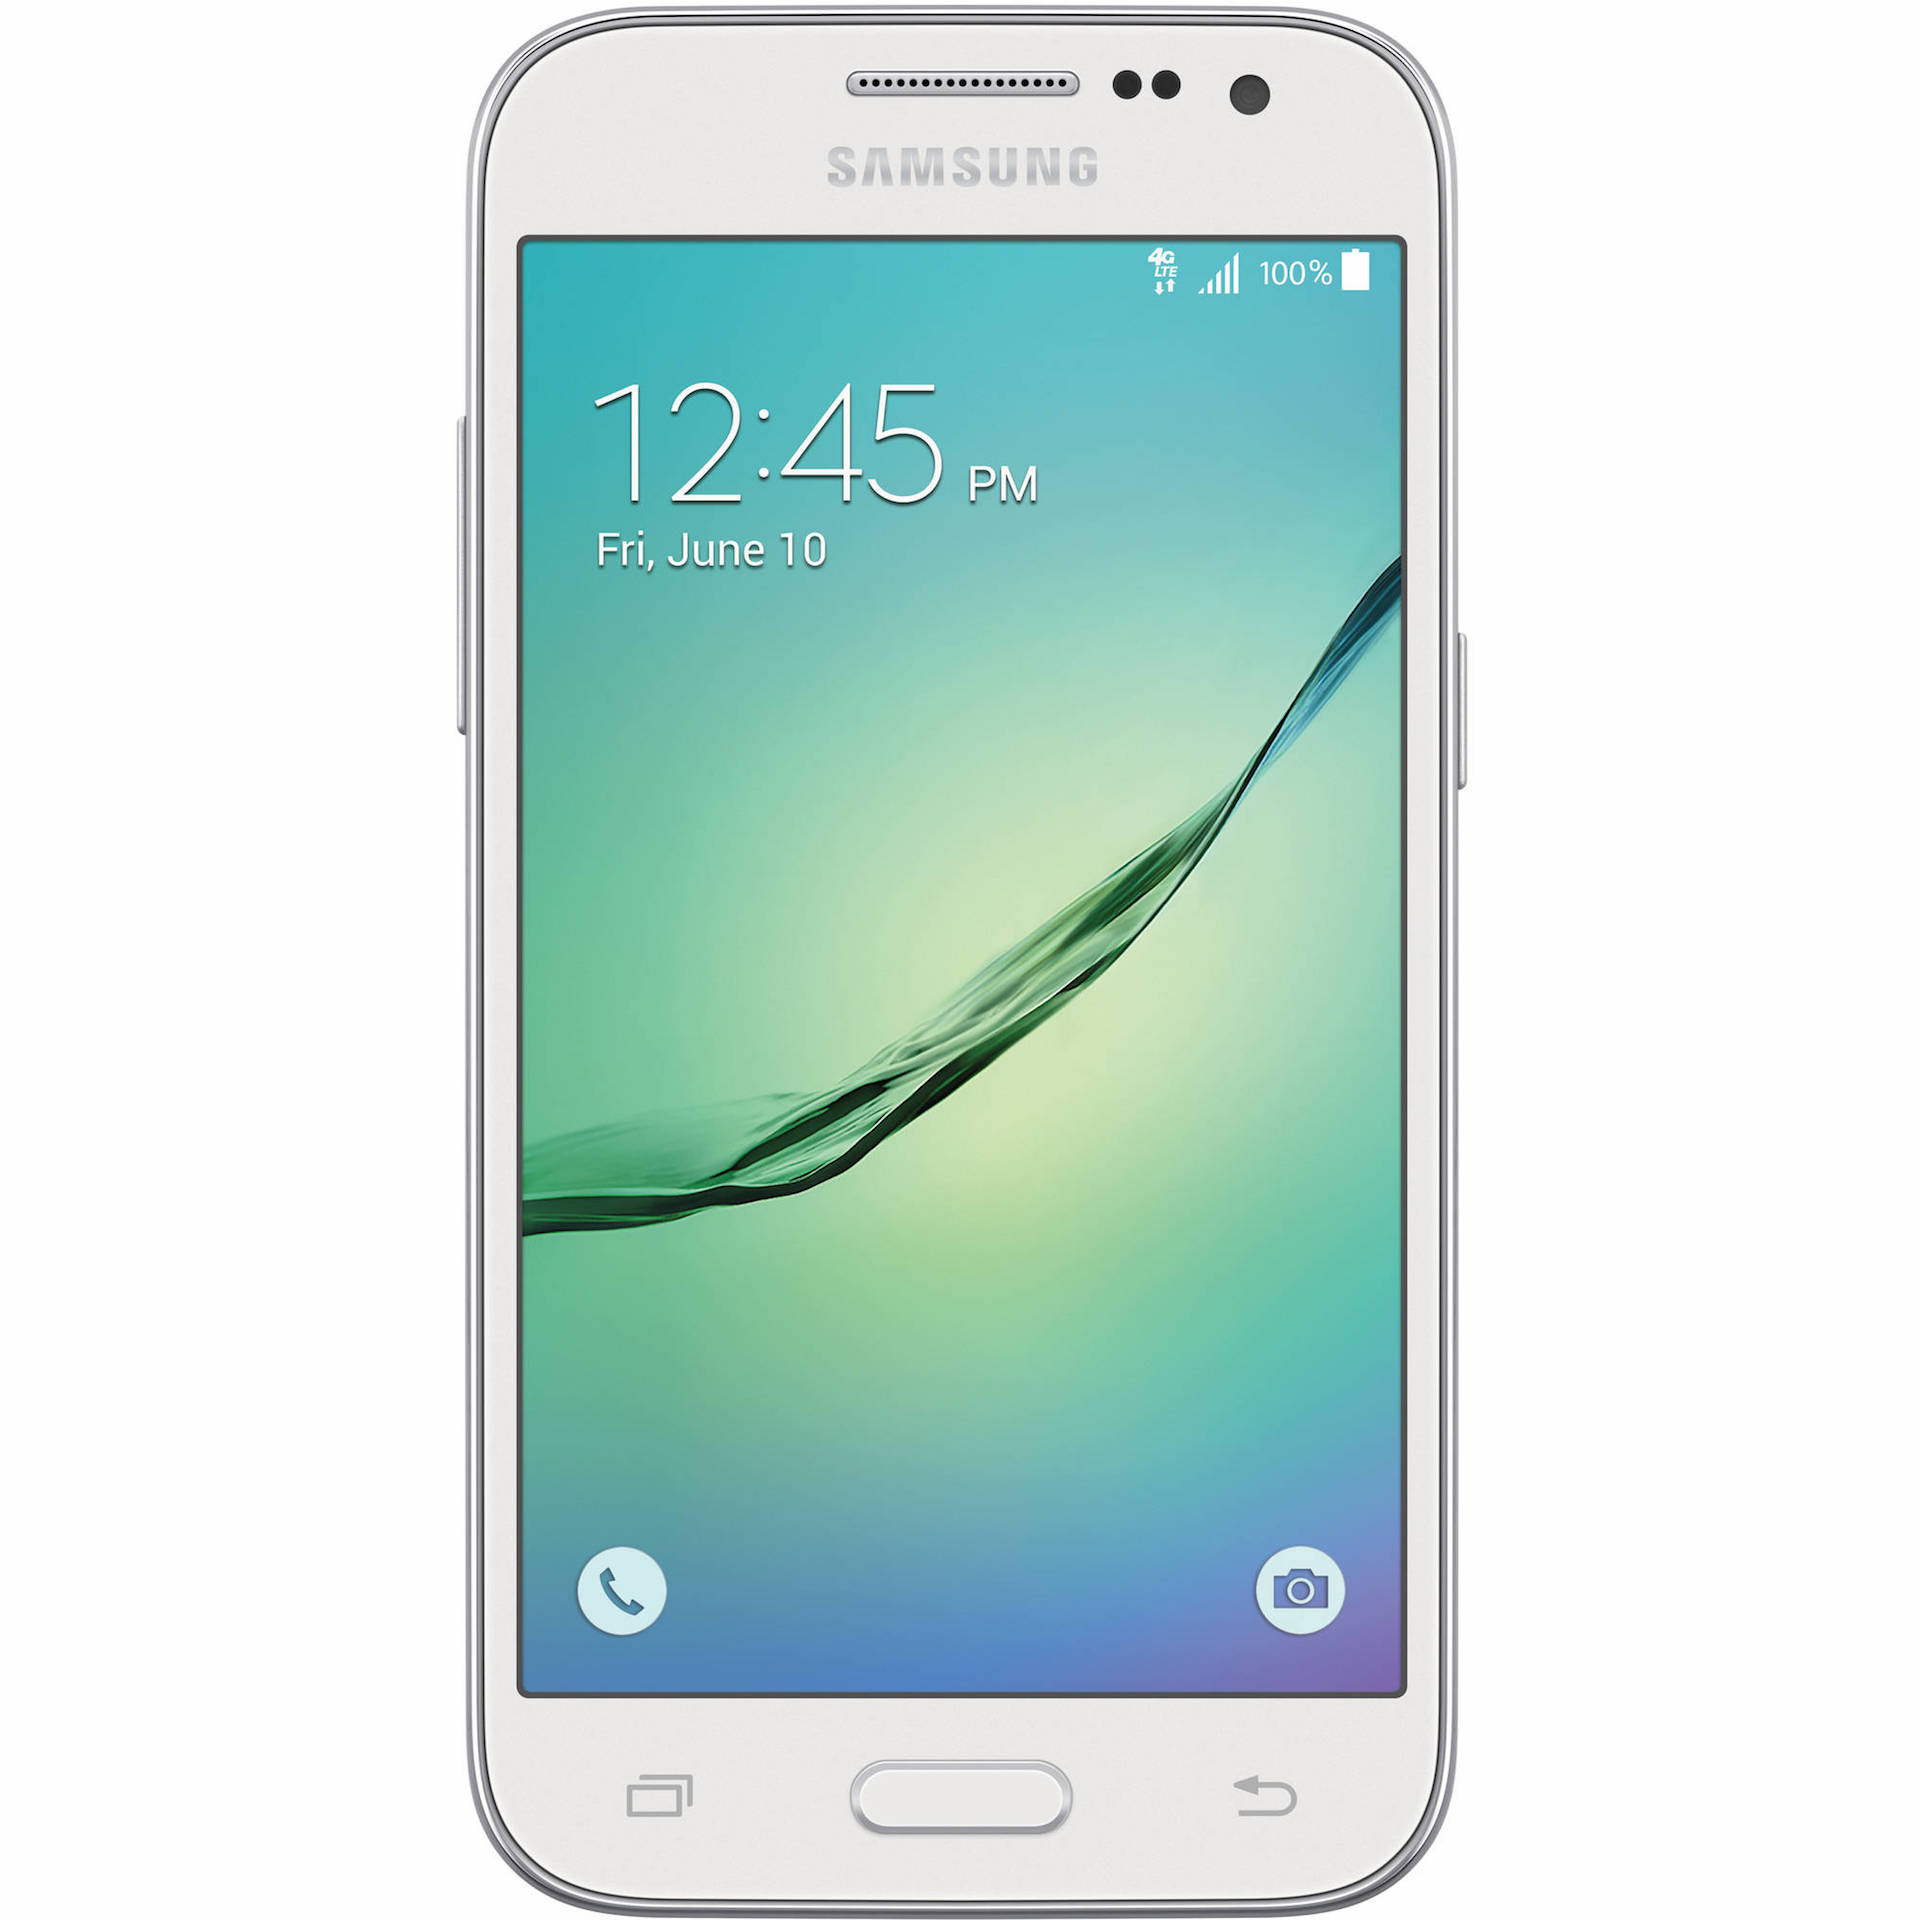smartphone: (443, 12, 1468, 1920)
